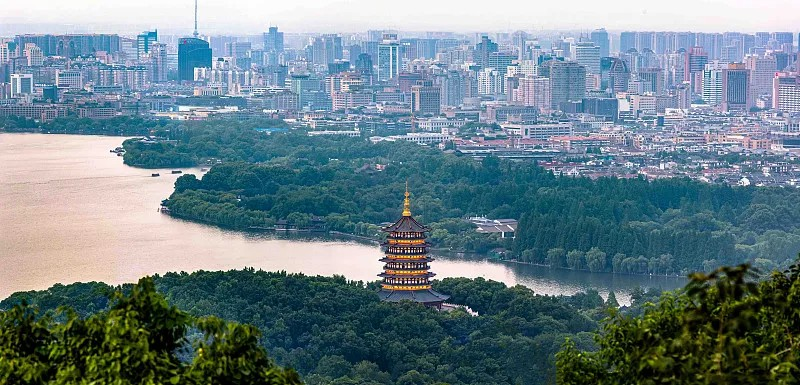Leifeng: (377, 179, 448, 312)
